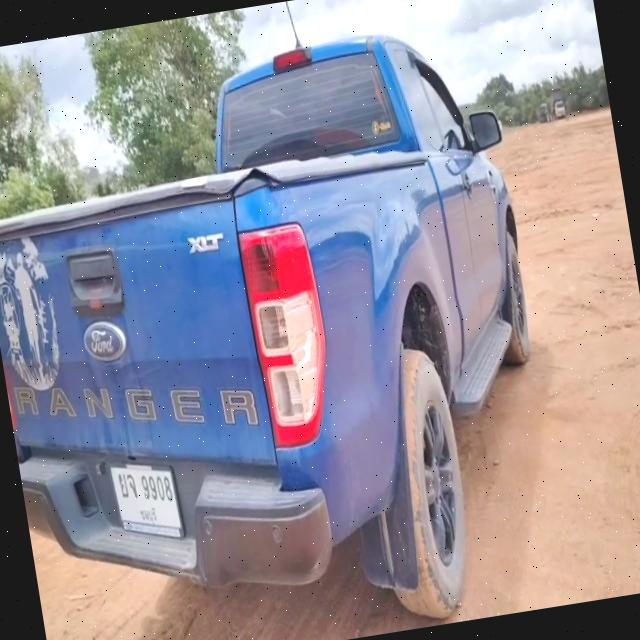Digit: (140, 470, 173, 506)
Licenseplate: (108, 461, 187, 539)
Provincename: (137, 504, 158, 528)
Thaichar: (117, 470, 138, 501)
